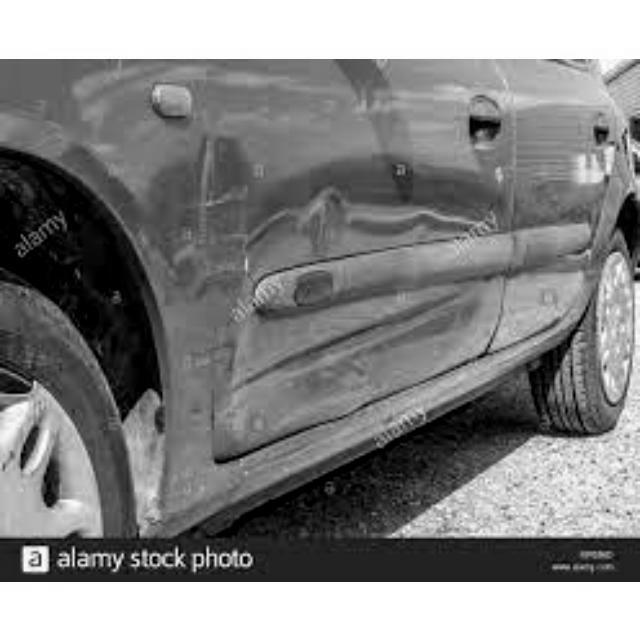Runningboard-Damage: (194, 412, 387, 499), (372, 384, 488, 435)
doorouter-dent: (207, 59, 514, 376)
